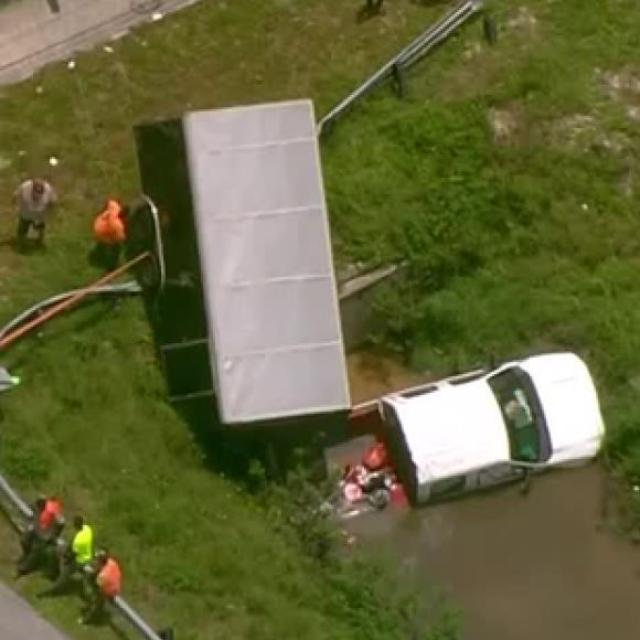traffic_incident: (311, 334, 600, 524)
